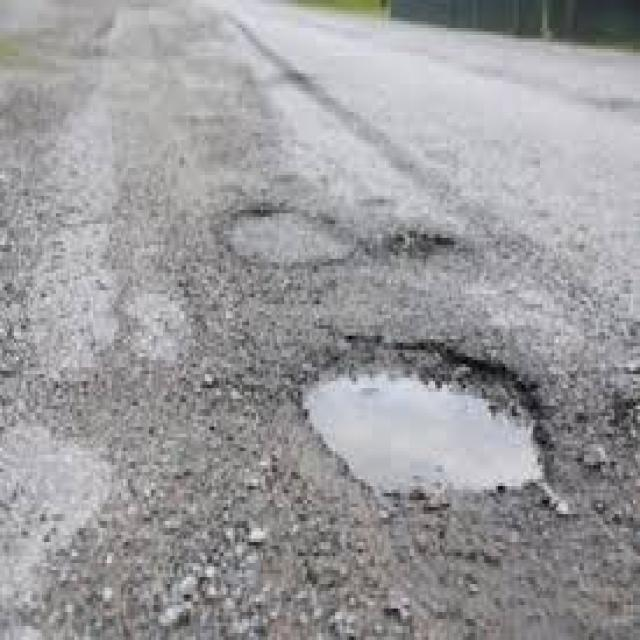pothole: (296, 307, 561, 521), (216, 195, 356, 272), (389, 223, 465, 265)
